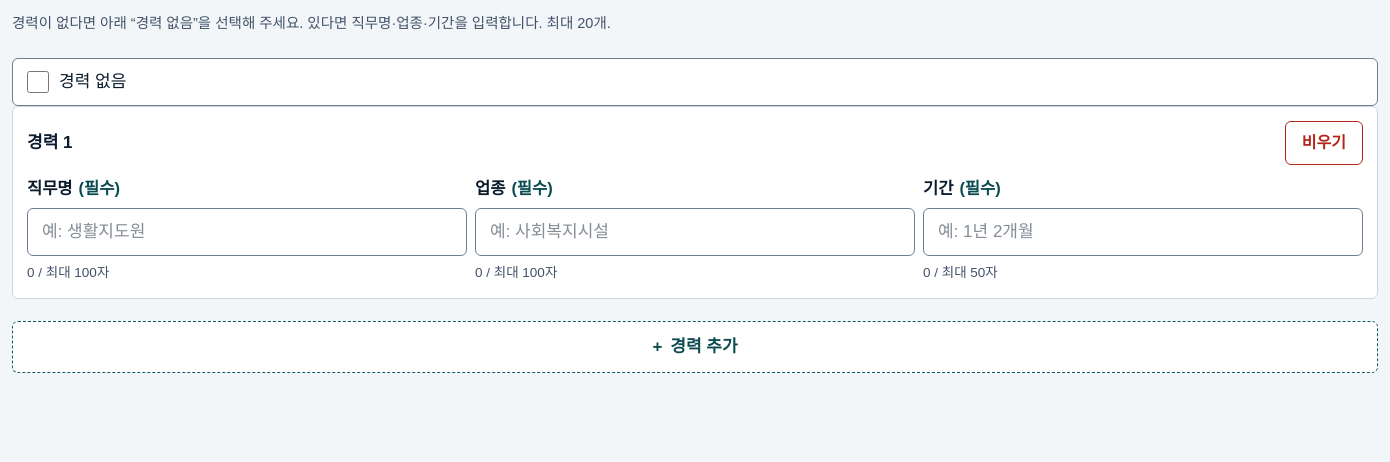
Test: 입력 페이지 구성 (T045~T051) › 경력: "경력 없음"을 선택하면 행이 비활성이 되고 사유가 보인다
Expected: the field labelled "직무명(필수)" is enabled, 27,208 -> 467,256
Click the checkbox labelled "경력 없음" at (38, 82), box 27,71 -> 49,93
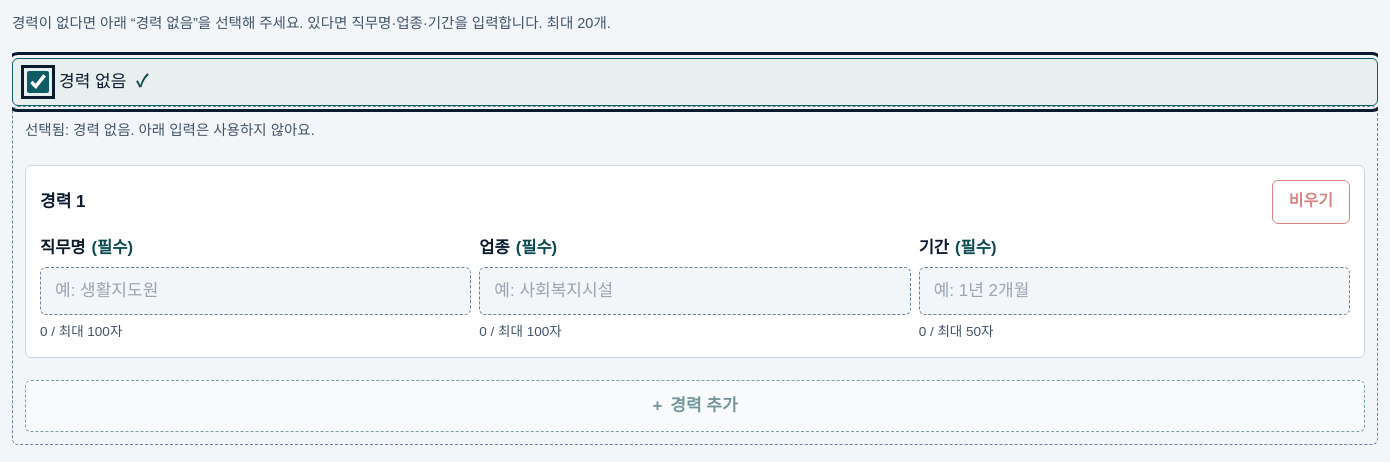
Expected: the field labelled "직무명(필수)" is disabled, 40,267 -> 471,315
Result: the text "선택됨: 경력 없음. 아래 입력은 사용하지 않아요." is shown at 25,122 -> 315,138
